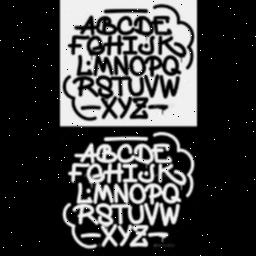a: (73, 142, 97, 164)
b: (100, 14, 116, 36), (101, 143, 117, 163)
c: (116, 144, 136, 164), (116, 14, 134, 36)
d: (136, 14, 154, 36), (136, 142, 154, 164)
e: (153, 143, 173, 163), (154, 14, 172, 36)
f: (66, 34, 90, 56)
g: (84, 164, 106, 184), (86, 36, 104, 56)
h: (102, 162, 122, 184)
i: (122, 36, 138, 56), (122, 163, 138, 183)
j: (137, 35, 155, 55), (138, 163, 156, 183)
k: (158, 162, 186, 186), (158, 36, 186, 58)
l: (76, 182, 92, 206), (76, 54, 92, 76)
m: (92, 183, 114, 205), (92, 56, 114, 76)
n: (114, 54, 128, 76), (114, 182, 128, 204)
o: (128, 55, 146, 77), (129, 182, 147, 204)
p: (148, 54, 162, 78), (148, 182, 162, 206)
q: (162, 54, 182, 76), (162, 182, 182, 204)
r: (76, 76, 98, 100)
s: (94, 75, 114, 99)
t: (109, 76, 131, 96), (110, 203, 130, 225)
u: (126, 76, 144, 96)
v: (142, 72, 160, 100), (144, 202, 160, 226)
w: (159, 74, 181, 100), (159, 202, 181, 228)
x: (100, 96, 118, 120), (99, 224, 117, 248)
y: (117, 96, 133, 120), (116, 224, 132, 248)
z: (128, 223, 150, 247), (128, 98, 150, 120)
